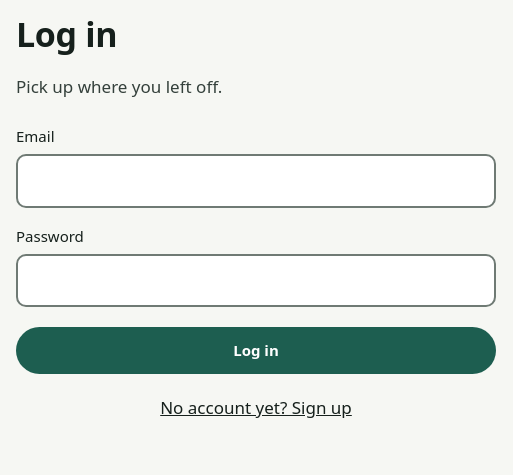
Login page › explains a network failure in plain words
Type "sara@example.com" into the field labelled "Email" at (256, 181), box x1=16 y1=154 x2=496 y2=208
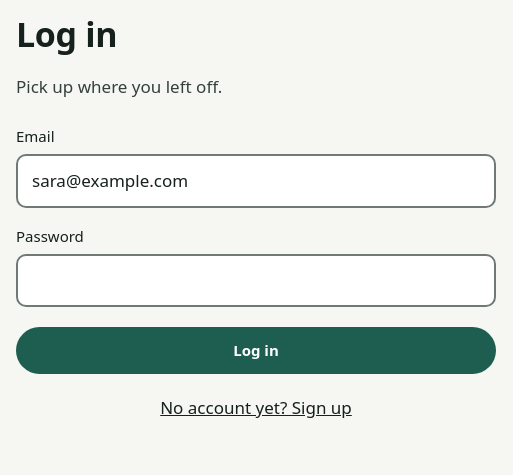
Type "secret123" into the password field labelled "Password" at (256, 280), box x1=16 y1=254 x2=496 y2=307
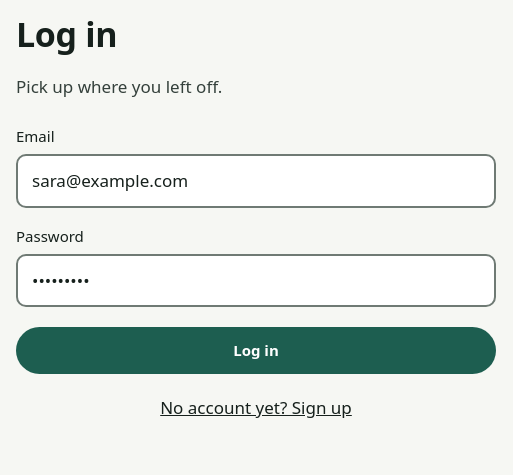
Click the button "Log in" at (256, 351), box x1=16 y1=327 x2=496 y2=374
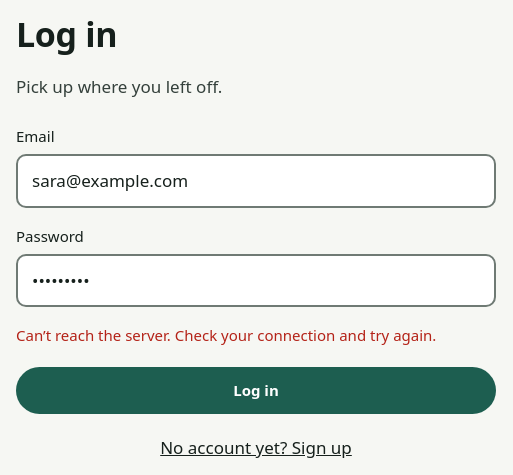
Check: the text "Can’t reach the server. Check your connection and try again." is shown, box x1=16 y1=323 x2=496 y2=347
